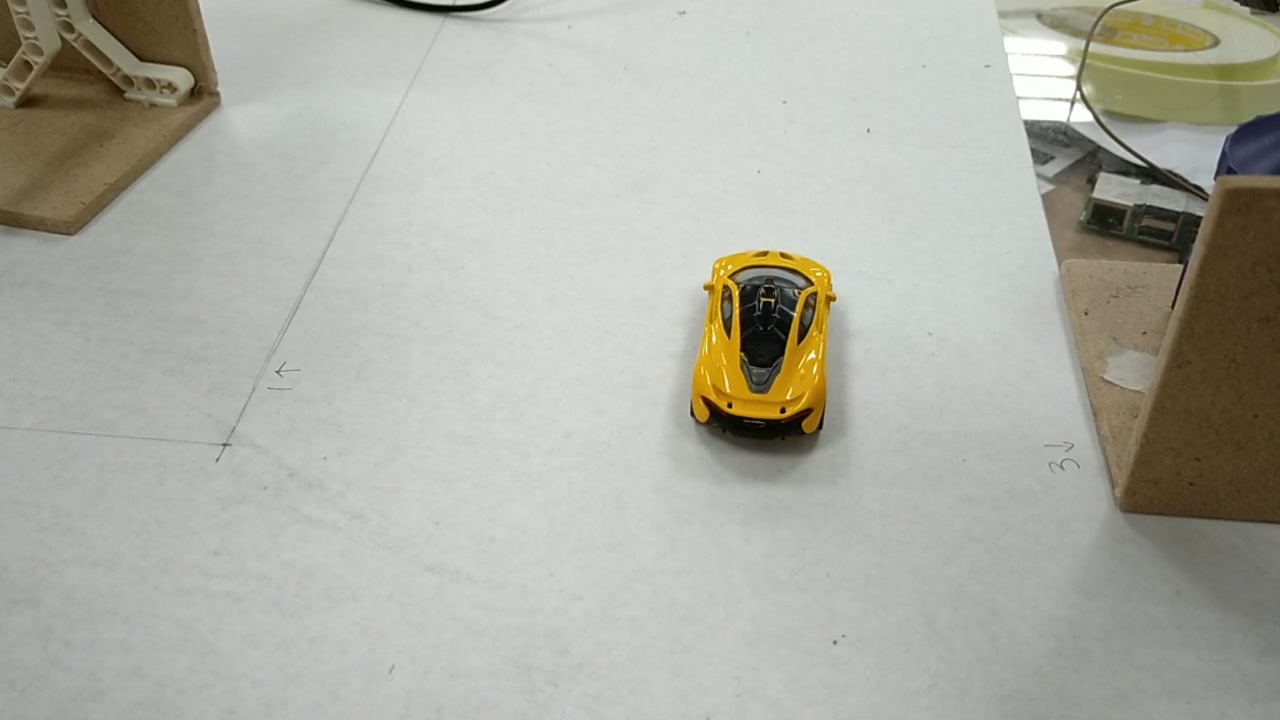car: (684, 251, 834, 436)
